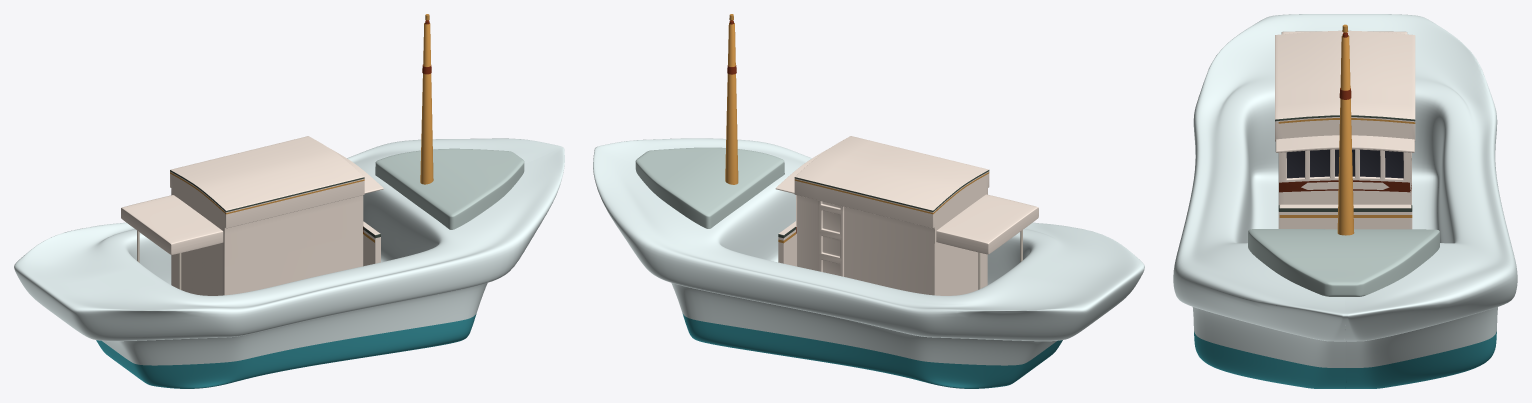
3 renders of one model, left to right at view 1: azimuth 30°, elevation 25°; view 2: azimuth 150°, elevation 25°; view 3: azimuth 270°, elevation 25°, orthographic. The views are drawn at different scales.
Parts seen in each view (by area): view 1: 立方體003_1, 立方體004_1, 立方體004_7, 立方體003_2, 立方體005, 平面001, 圓柱體005, 立方體005_1; view 2: 立方體003_1, 立方體004_1, 立方體004_7, 立方體003_2, 立方體005, 平面001, 圓柱體005, 立方體005_1; view 3: 立方體003_1, 立方體004_7, 立方體005, 立方體003_2, 立方體004_1, 圓柱體005, 立方體005_1, 立方體004_6, 平面, 立方體004_4, 立方體004_5, 立方體005_2 (+3 smaller).
Boxes of the visible parts, x1=… form: 立方體003_1: x1=14, y1=138, x2=564, y2=365; 立方體004_1: x1=171, y1=188, x2=363, y2=295; 立方體004_7: x1=170, y1=136, x2=364, y2=228; 立方體003_2: x1=96, y1=313, x2=476, y2=388; 立方體005: x1=375, y1=148, x2=524, y2=229; 平面001: x1=121, y1=195, x2=223, y2=254; 圓柱體005: x1=420, y1=23, x2=433, y2=184; 立方體005_1: x1=363, y1=221, x2=380, y2=266; 立方體003_1: x1=593, y1=138, x2=1144, y2=365; 立方體004_1: x1=796, y1=188, x2=987, y2=295; 立方體004_7: x1=794, y1=136, x2=989, y2=228; 立方體003_2: x1=682, y1=313, x2=1062, y2=388; 立方體005: x1=635, y1=147, x2=784, y2=228; 平面001: x1=936, y1=194, x2=1038, y2=254; 圓柱體005: x1=725, y1=23, x2=738, y2=184; 立方體005_1: x1=778, y1=221, x2=795, y2=266; 立方體003_1: x1=1173, y1=14, x2=1517, y2=367; 立方體004_7: x1=1275, y1=30, x2=1415, y2=141; 立方體005: x1=1248, y1=229, x2=1439, y2=296; 立方體003_2: x1=1194, y1=331, x2=1496, y2=388; 立方體004_1: x1=1275, y1=122, x2=1411, y2=204; 圓柱體005: x1=1337, y1=35, x2=1354, y2=235; 立方體005_1: x1=1278, y1=204, x2=1412, y2=229; 立方體004_6: x1=1286, y1=149, x2=1403, y2=178; 平面: x1=1275, y1=135, x2=1414, y2=152; 立方體004_4: x1=1279, y1=180, x2=1411, y2=192; 立方體004_5: x1=1301, y1=182, x2=1389, y2=189; 立方體005_2: x1=1278, y1=205, x2=1412, y2=211.
Bounding box in the file's own units: 1.81 × 0.955 × 0.828.
